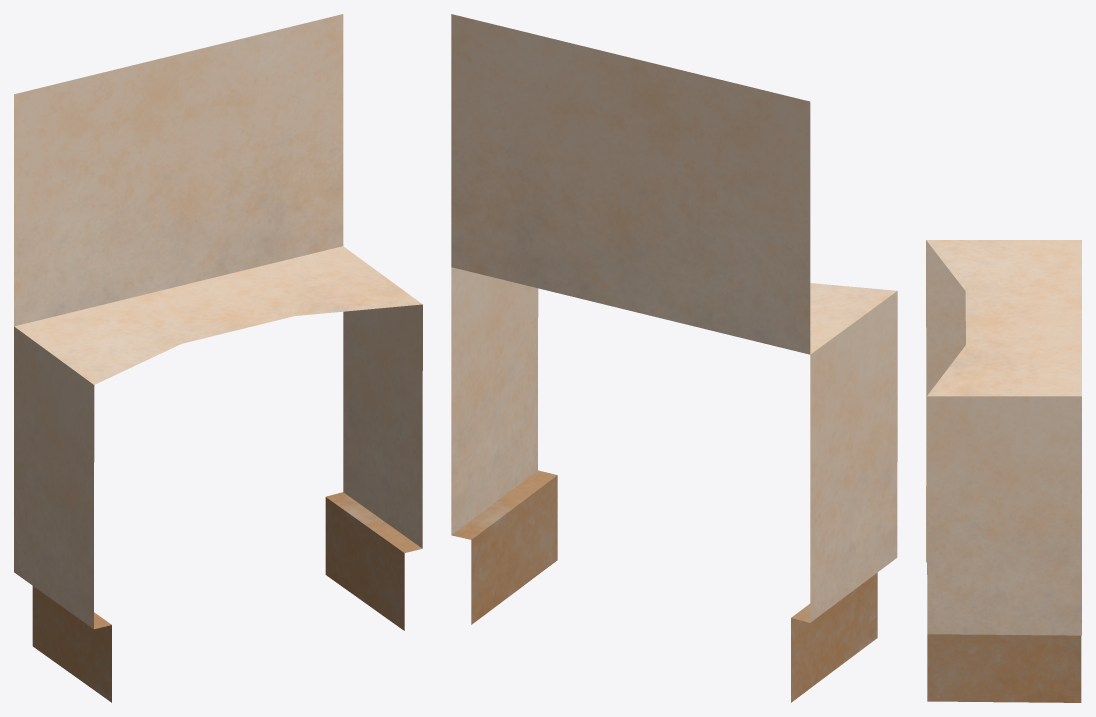
The model's file is Pared Lisa Tunel.fbx.
3 views of the same model, side by side, from view 1: azimuth 30°, elevation 25°; view 2: azimuth 150°, elevation 25°; view 3: azimuth 270°, elevation 25° (orthographic). The views are drawn at different scales.
Visible parts, largest first — view 1: polySurface6; view 2: polySurface6; view 3: polySurface6.
Part boxes in pixels (left/top/right/bottom): polySurface6: left=14, top=14, right=422, bottom=702; polySurface6: left=451, top=14, right=897, bottom=702; polySurface6: left=926, top=240, right=1081, bottom=702.
Bounding box in the file's own units: 2.36 × 3.81 × 0.9962.
